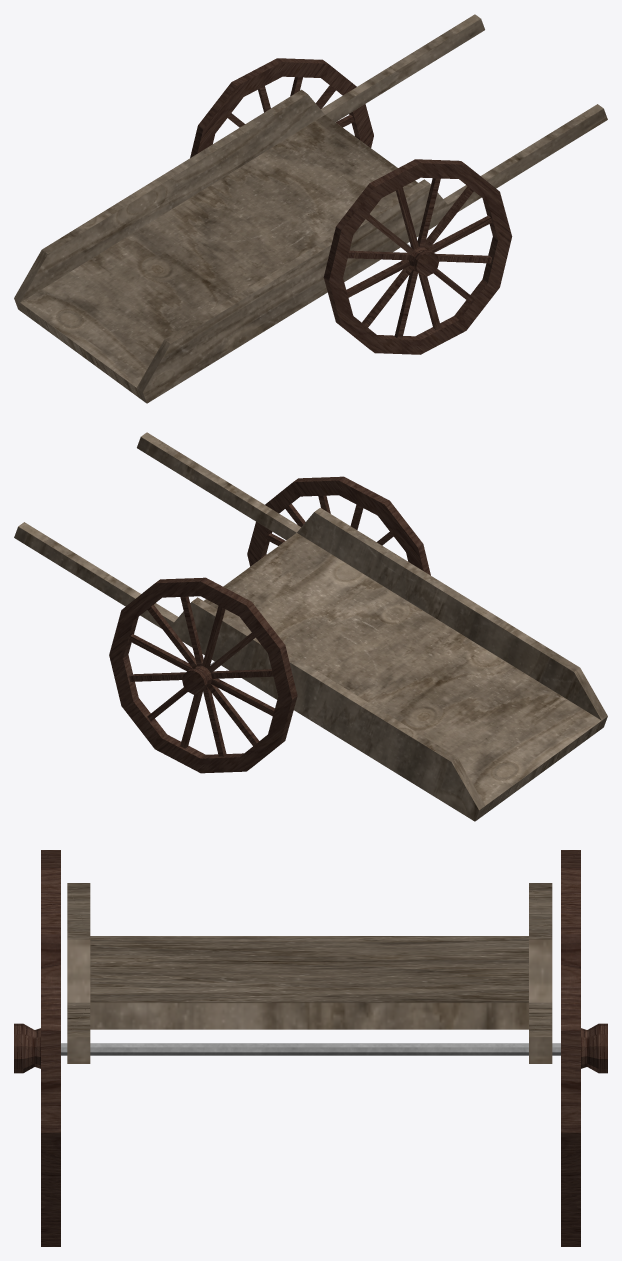
File: cart.fbx
The picture shows the model from 3 angles, top to bottom: view 1: azimuth 30°, elevation 25°; view 2: azimuth 150°, elevation 25°; view 3: azimuth 270°, elevation 25°; orthographic projection. The views are drawn at different scales.
Parts seen in each view (by area): view 1: cart; view 2: cart; view 3: cart.
Part boxes in pixels (x1=…): cart: x1=14, y1=14, x2=607, y2=403; cart: x1=14, y1=432, x2=607, y2=821; cart: x1=14, y1=850, x2=607, y2=1246.
Size of the model in its own units: 16.02 by 6.41 by 9.41.
Materials: 1 (1 with a texture image).
